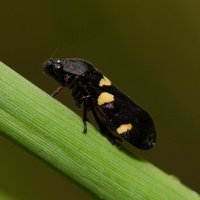insect: (44, 59, 155, 149)
